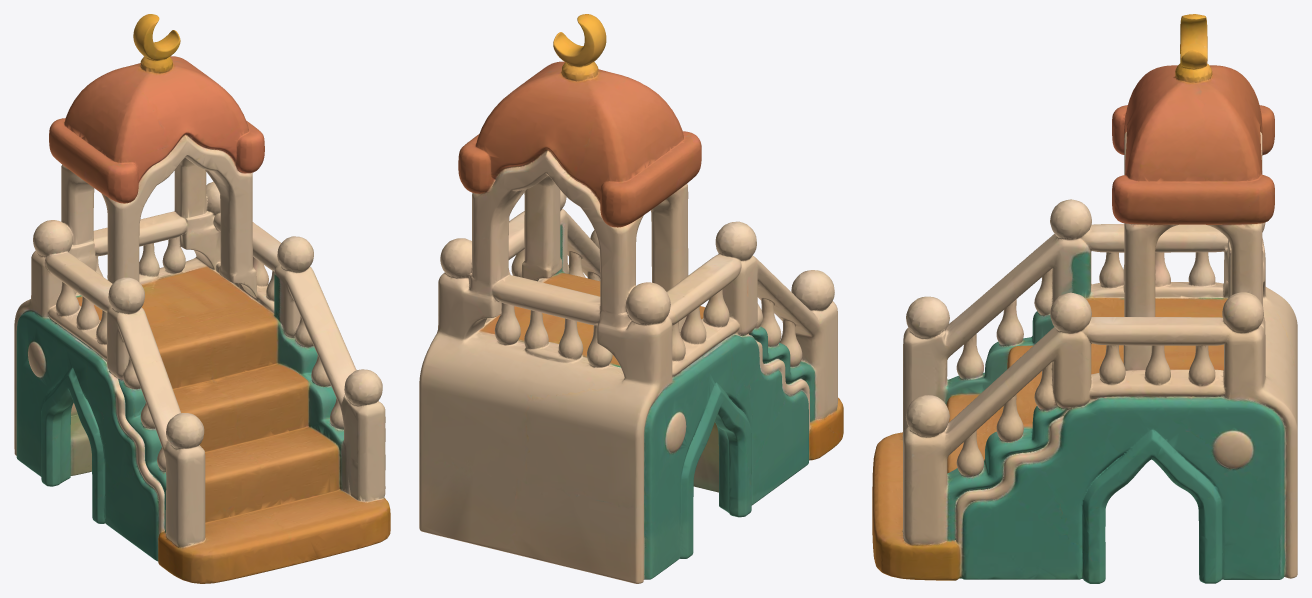
File: minbar-variant-01-sand-teal-classic.glb
The picture shows the model from 3 angles, left to right: view 1: azimuth 30°, elevation 25°; view 2: azimuth 150°, elevation 25°; view 3: azimuth 270°, elevation 25°; orthographic projection. The views are drawn at different scales.
Visible parts, largest first — view 1: mesh_node; view 2: mesh_node; view 3: mesh_node.
Boxes of the visible parts, x1,y1,x2,y2 form: mesh_node: [14, 14, 390, 583]; mesh_node: [419, 14, 843, 583]; mesh_node: [872, 14, 1297, 583].
Bounding box in the file's own units: 0.9432 × 1.9 × 1.44.
Materials: 1 (1 with a texture image).
